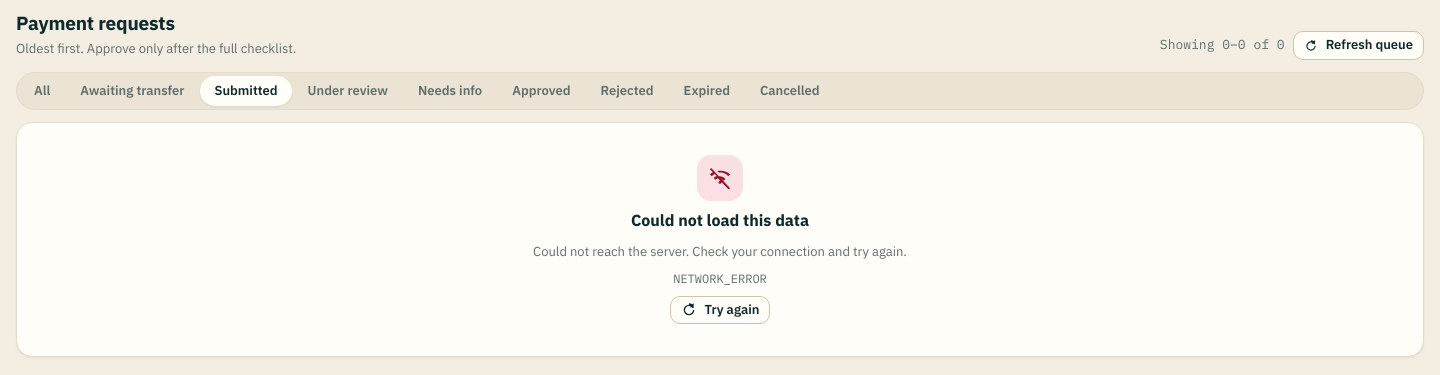
Test: PaymentsPage › shows a failed fetch as an error with a retry, never as an empty queue
The width and height of the screenshot is (1440, 375).
Expected: the message shows "Could not load this data", [631,209,809,233]
Expected: the message shows "NETWORK_ERROR", [673,271,767,286]
What coordinates should you click on to do the following:
click the button "Try again"
I would click on:
 (720, 310)
Its box is [670,296,770,324].
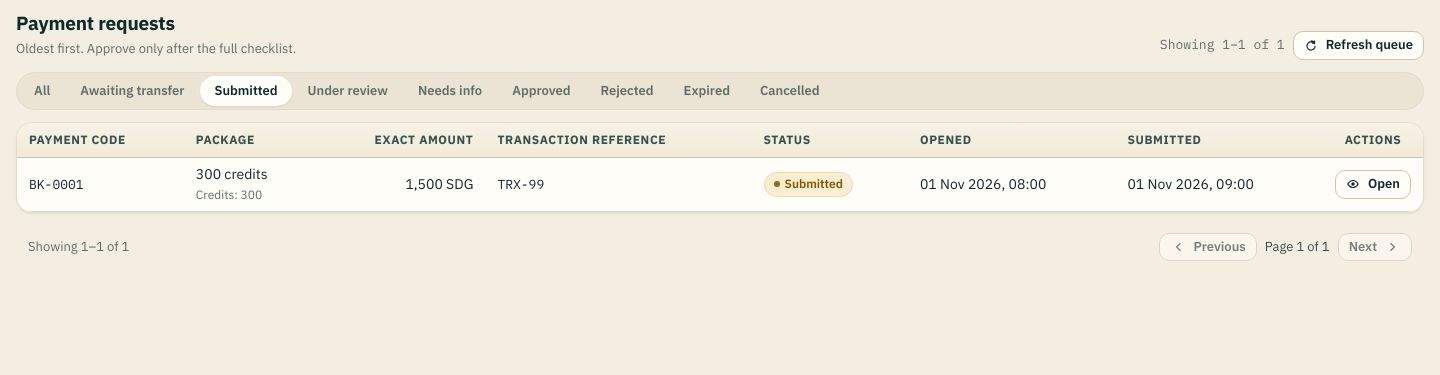
Now the text "BK-0001" is shown, box [29,176,84,193]
Now the message is gone
